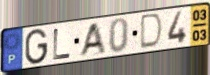0: (107, 17, 132, 55)
4: (166, 10, 188, 46)
A: (77, 21, 108, 59)
D: (138, 12, 165, 51)
G: (24, 28, 49, 66)
L: (52, 27, 73, 62)
